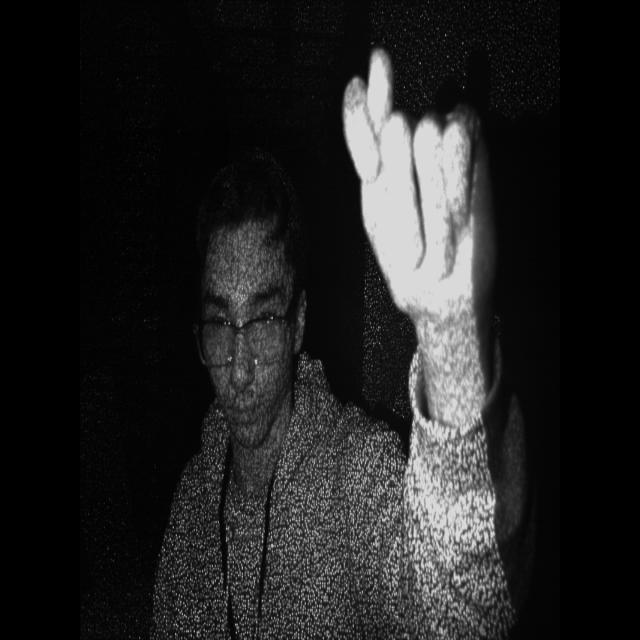T: (333, 26, 532, 310)
